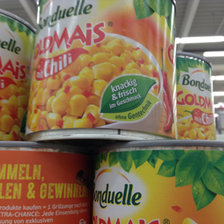corn: (25, 1, 176, 141)
